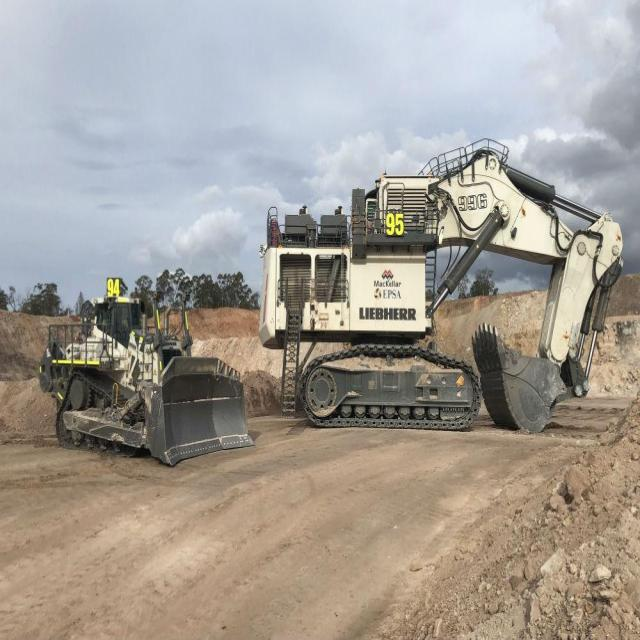Bulldozer: (31, 273, 269, 474)
